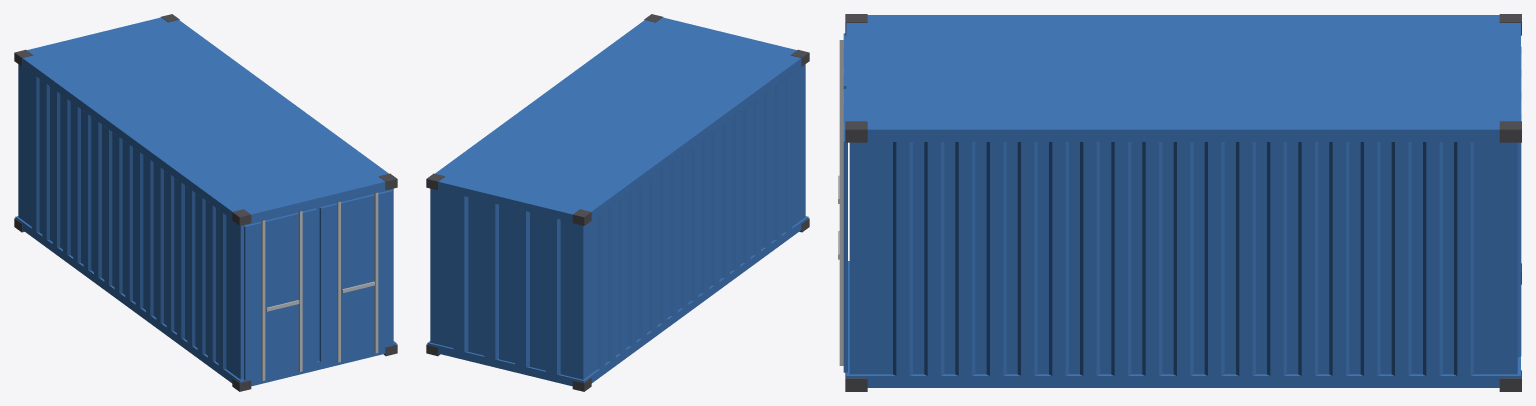
Rendered from SM_Prop_Container.fbx.
The picture shows the model from 3 angles, left to right: view 1: azimuth 30°, elevation 25°; view 2: azimuth 150°, elevation 25°; view 3: azimuth 270°, elevation 25°; orthographic projection. The views are drawn at different scales.
Visible parts, largest first — view 1: SM_Prop_Container; view 2: SM_Prop_Container; view 3: SM_Prop_Container.
Part boxes in pixels (bbox=[...]): SM_Prop_Container: bbox=[14, 14, 397, 391]; SM_Prop_Container: bbox=[426, 14, 809, 391]; SM_Prop_Container: bbox=[838, 14, 1521, 391].
Size of the model in its own units: 6.14 by 2.46 by 2.6.
